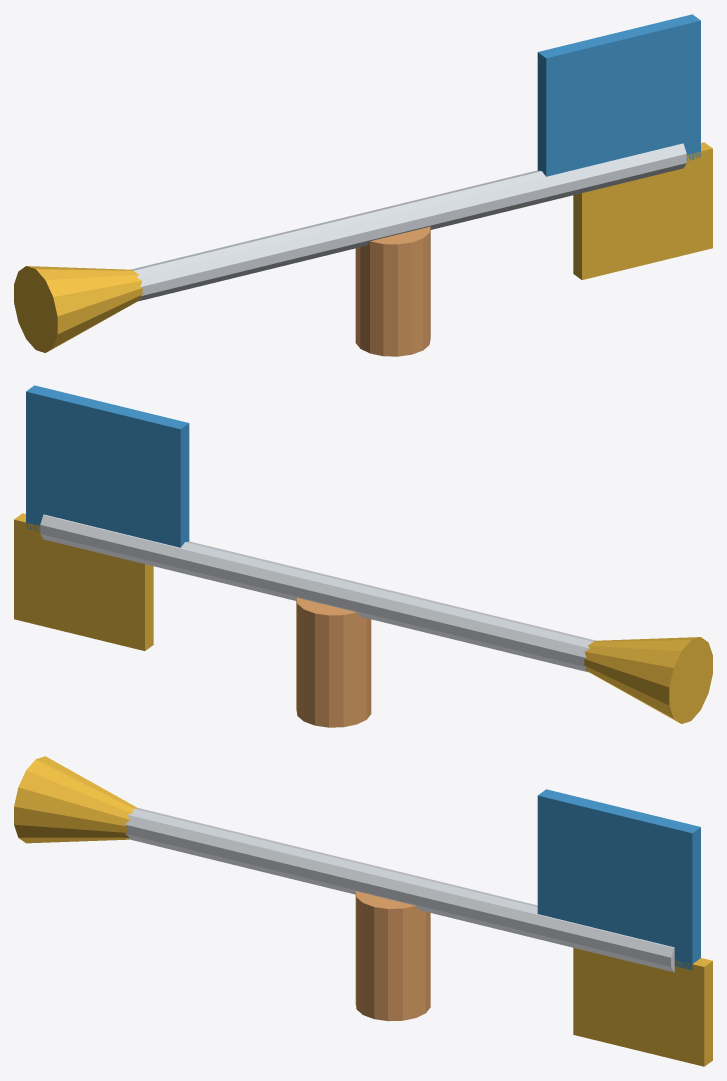
File: ENERGY-020.glb
The picture shows the model from 3 angles, top to bottom: view 1: azimuth 30°, elevation 25°; view 2: azimuth 150°, elevation 25°; view 3: azimuth 330°, elevation 25°; orthographic projection.
Parts seen in each view (by area): view 1: ENERGY-020; view 2: ENERGY-020; view 3: ENERGY-020.
Part boxes in pixels (left/top/right/bottom): ENERGY-020: left=14, top=14, right=712, bottom=356; ENERGY-020: left=14, top=385, right=712, bottom=727; ENERGY-020: left=14, top=756, right=712, bottom=1066.
Size of the model in its own units: 1.13 by 0.4 by 0.1267.
